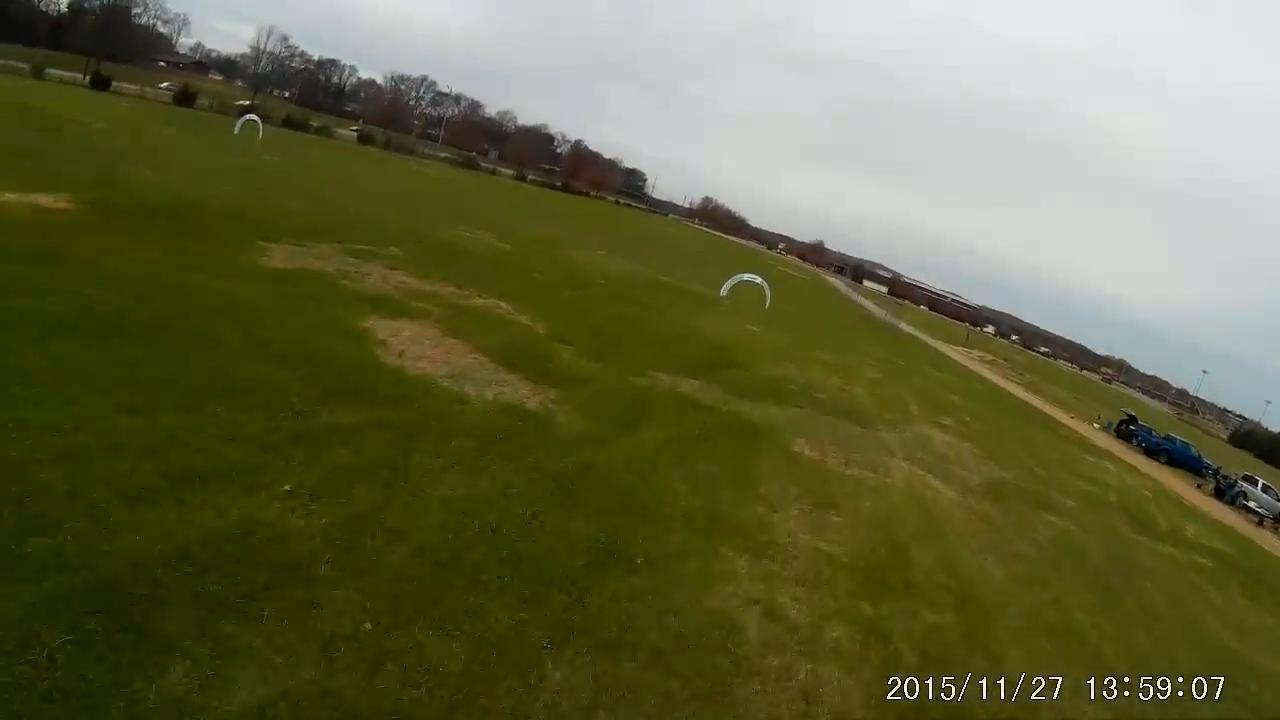gate: (717, 273, 773, 313)
